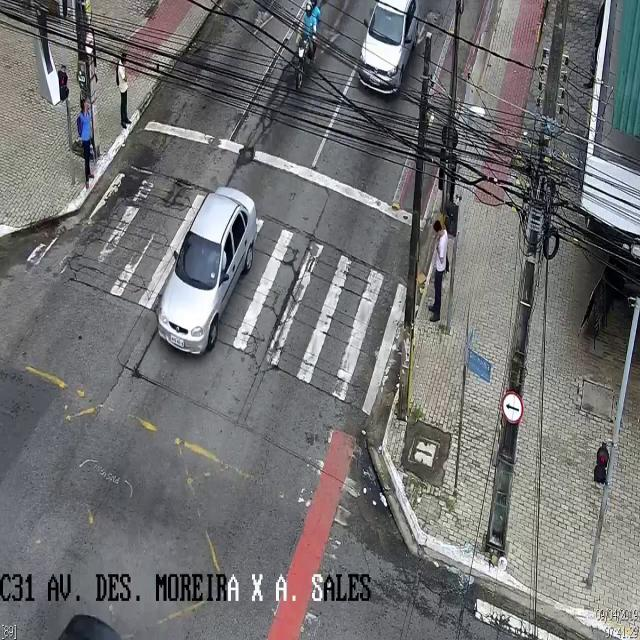Car: (158, 186, 257, 356), (358, 0, 418, 94)
Motorcycle: (294, 1, 320, 89)
